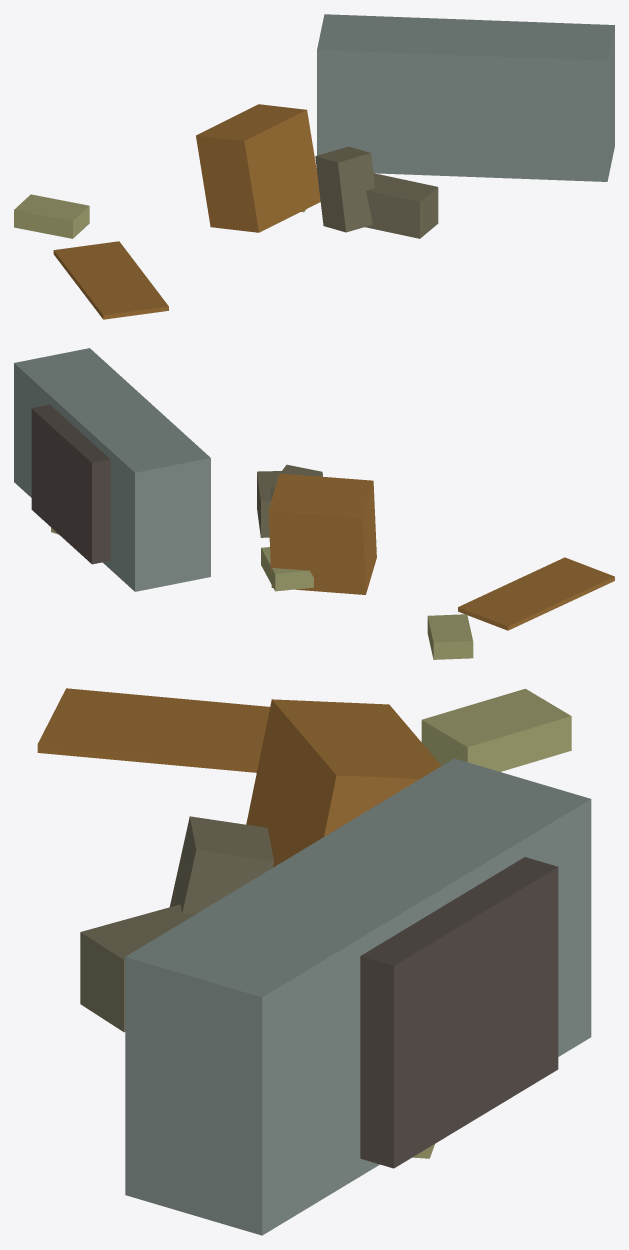
Rendered from SM_BarricadaCivil_v4_Mixta_e2_MuyDanado_LOD0.fbx.
The picture shows the model from 3 angles, top to bottom: view 1: azimuth 30°, elevation 25°; view 2: azimuth 150°, elevation 25°; view 3: azimuth 270°, elevation 25°; orthographic projection. The views are drawn at different scales.
Visible parts, largest first — view 1: SM_barricada_civil_v18_LOD0; view 2: SM_barricada_civil_v18_LOD0; view 3: SM_barricada_civil_v18_LOD0.
Part boxes in pixels (box(x1,y1,x2,y2)): SM_barricada_civil_v18_LOD0: box(14, 14, 614, 319); SM_barricada_civil_v18_LOD0: box(14, 348, 614, 659); SM_barricada_civil_v18_LOD0: box(37, 688, 591, 1235).
Size of the model in its own units: 8 by 1.72 by 3.48.
